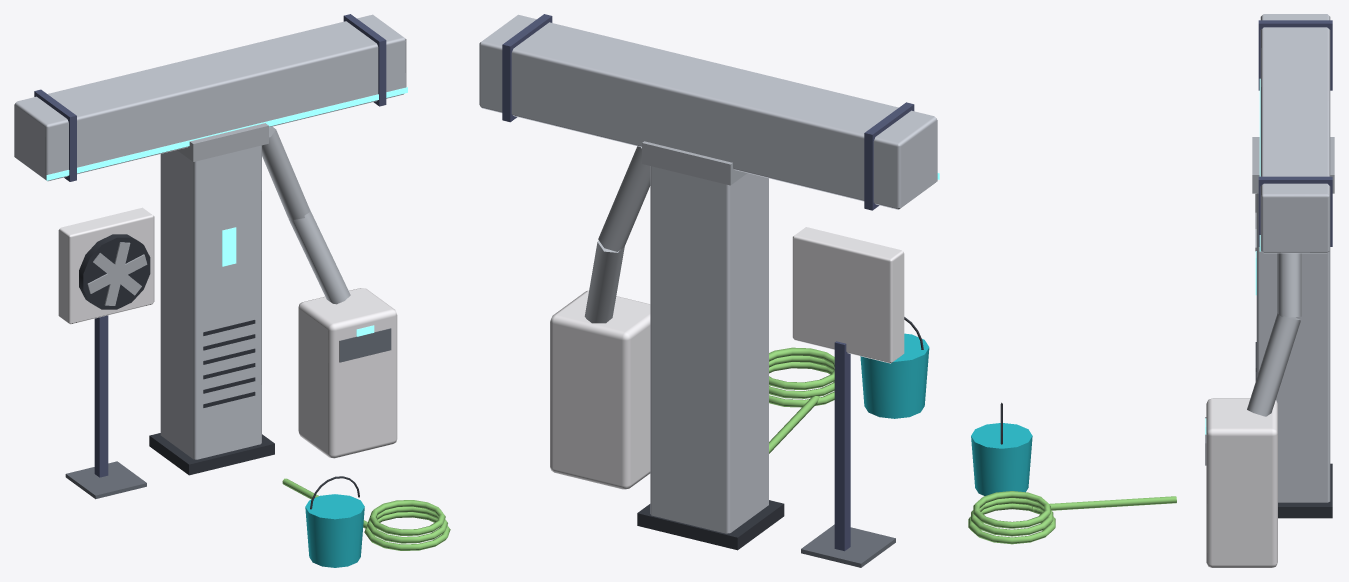
File: station_transport_1.glb
3 views of the same model, side by side, from view 1: azimuth 30°, elevation 25°; view 2: azimuth 150°, elevation 25°; view 3: azimuth 270°, elevation 25° (orthographic). The views are drawn at different scales.
Parts seen in each view (by area): view 1: station_transport_1; view 2: station_transport_1; view 3: station_transport_1.
Part boxes in pixels (bbox=[...]): station_transport_1: bbox=[14, 14, 450, 567]; station_transport_1: bbox=[479, 14, 939, 567]; station_transport_1: bbox=[968, 14, 1334, 567].
Bounding box in the file's own units: 2.1 × 2.13 × 1.78.
